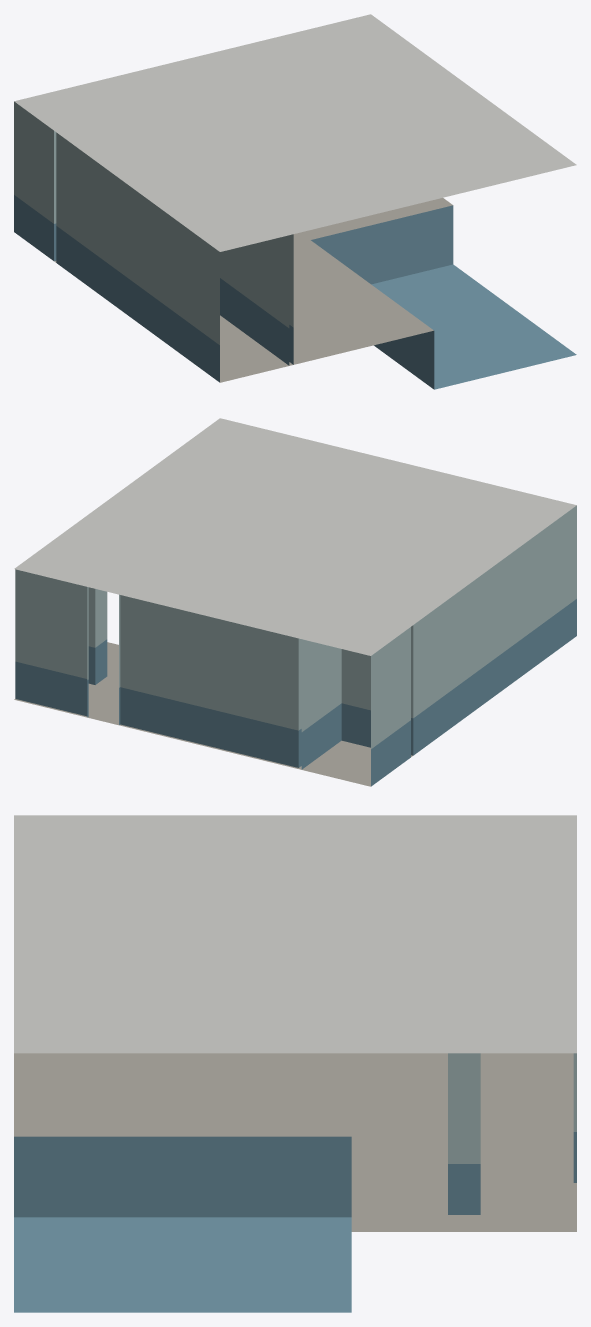
The model's file is chunk_0_3.glb.
3 views of the same model, one above another, from view 1: azimuth 30°, elevation 25°; view 2: azimuth 150°, elevation 25°; view 3: azimuth 270°, elevation 25° (orthographic). The views are drawn at different scales.
Visible parts, largest first — view 1: chunk_0_3; view 2: chunk_0_3; view 3: chunk_0_3.
Part boxes in pixels (left/top/right/bottom): chunk_0_3: left=14, top=14, right=576, bottom=389; chunk_0_3: left=14, top=418, right=576, bottom=786; chunk_0_3: left=14, top=815, right=576, bottom=1312.
Size of the model in its own units: 12 by 6.1 by 12.
